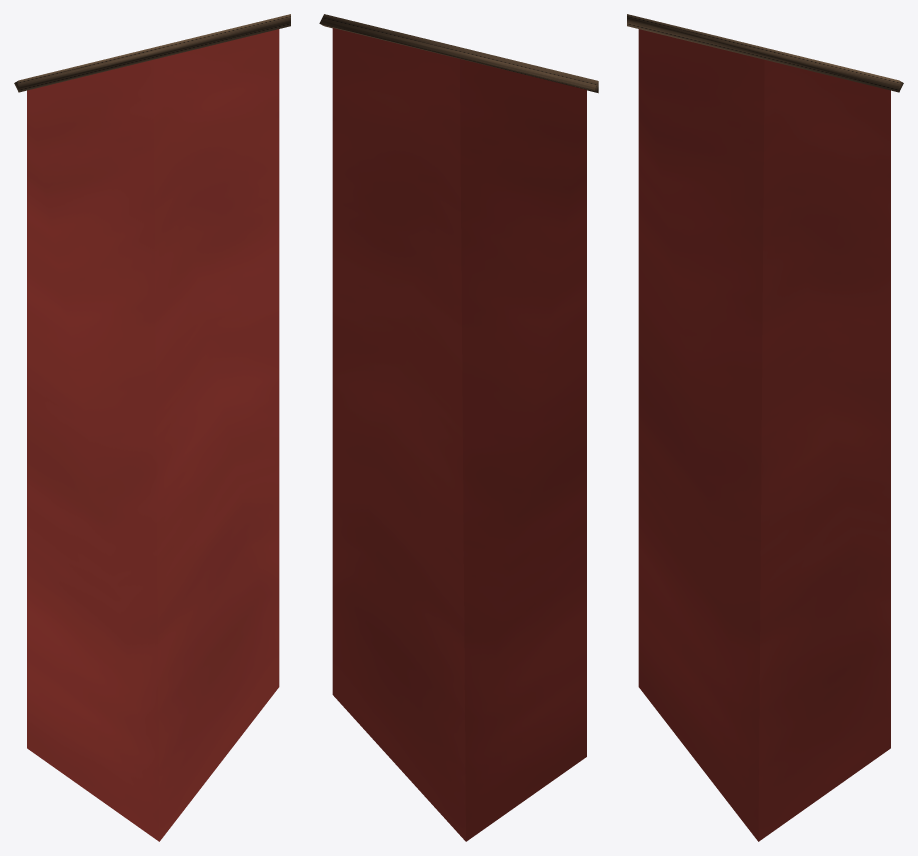
Rendered from Banner_1_Cloth_LOD2.gltf.
3 renders of one model, left to right at view 1: azimuth 30°, elevation 25°; view 2: azimuth 150°, elevation 25°; view 3: azimuth 330°, elevation 25°, orthographic.
Parts seen in each view (by area): view 1: Banner_1_Cloth_LOD2; view 2: Banner_1_Cloth_LOD2; view 3: Banner_1_Cloth_LOD2.
Boxes of the visible parts, left/top/right/bottom form: Banner_1_Cloth_LOD2: left=14, top=14, right=290, bottom=841; Banner_1_Cloth_LOD2: left=319, top=14, right=598, bottom=841; Banner_1_Cloth_LOD2: left=627, top=14, right=903, bottom=841.
Bounding box in the file's own units: 0.81 × 2.25 × 0.048.
Materials: 2 (2 with a texture image).
